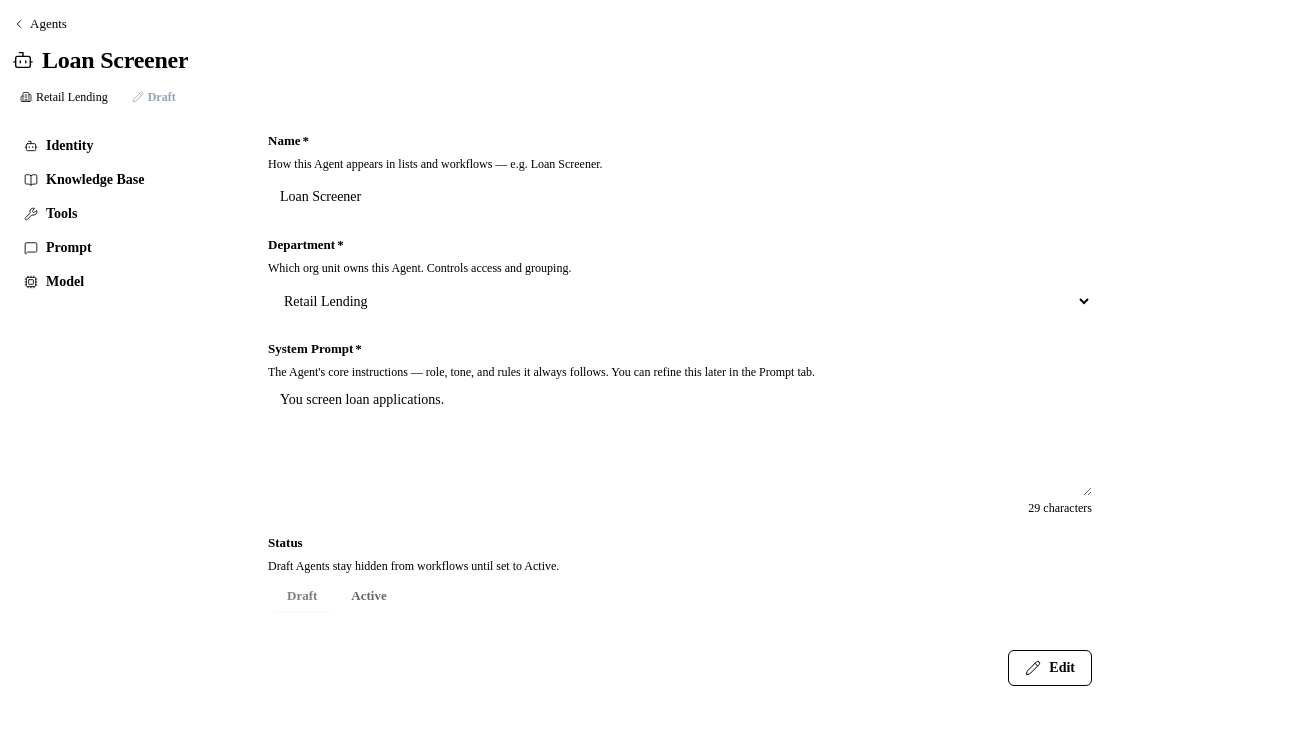
Scenario: AgentDetailShell — Story 2.8 integration › saves the dirty Identity tab per-tab and shows a success toast (AC #8)
Expected: the element with test id "vaic-identity-tab" is shown, [268,130,1092,686]
Click the button with test id "vaic-tab-edit".
click(1050, 668)  # box [1008,650,1092,686]
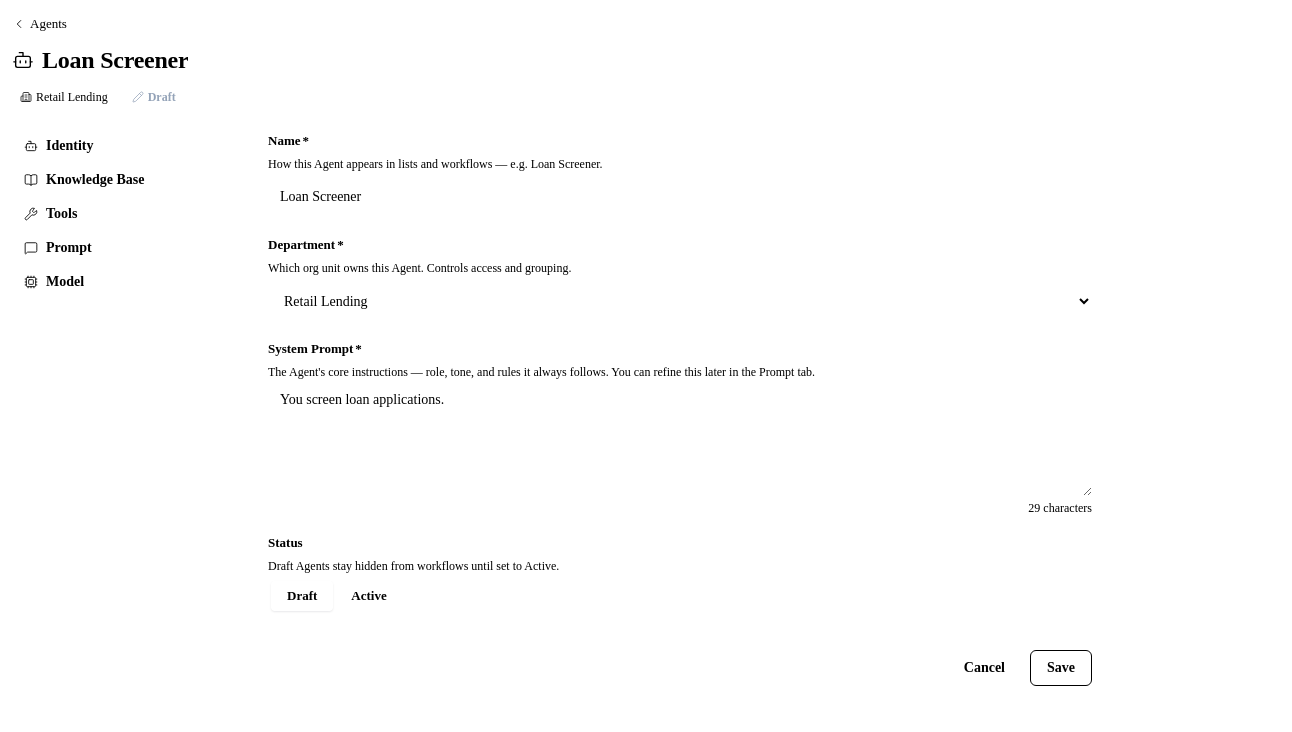
Replace the text in the field labelled "Name" with "Loan Screener v2" at (680, 197), box [268,176,1092,218]
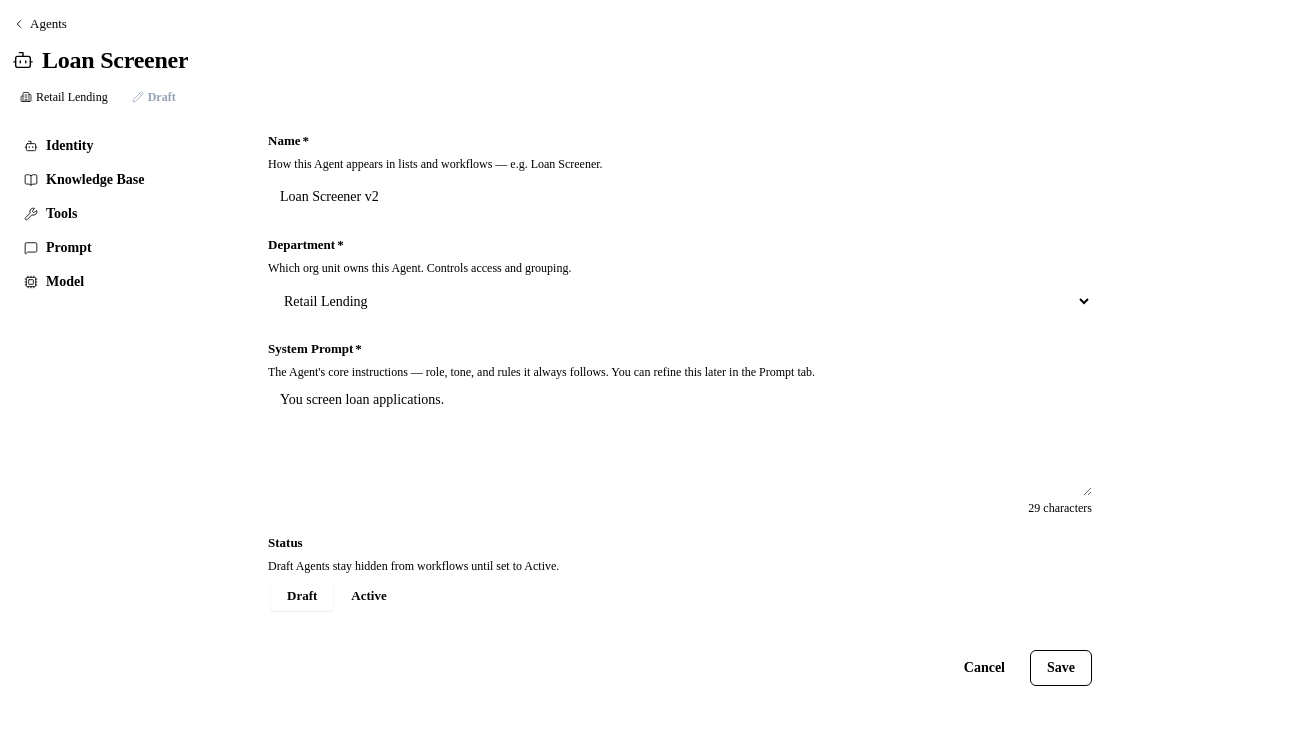
Click the button with test id "vaic-tab-save".
click(1061, 668)  # box [1030,650,1092,686]
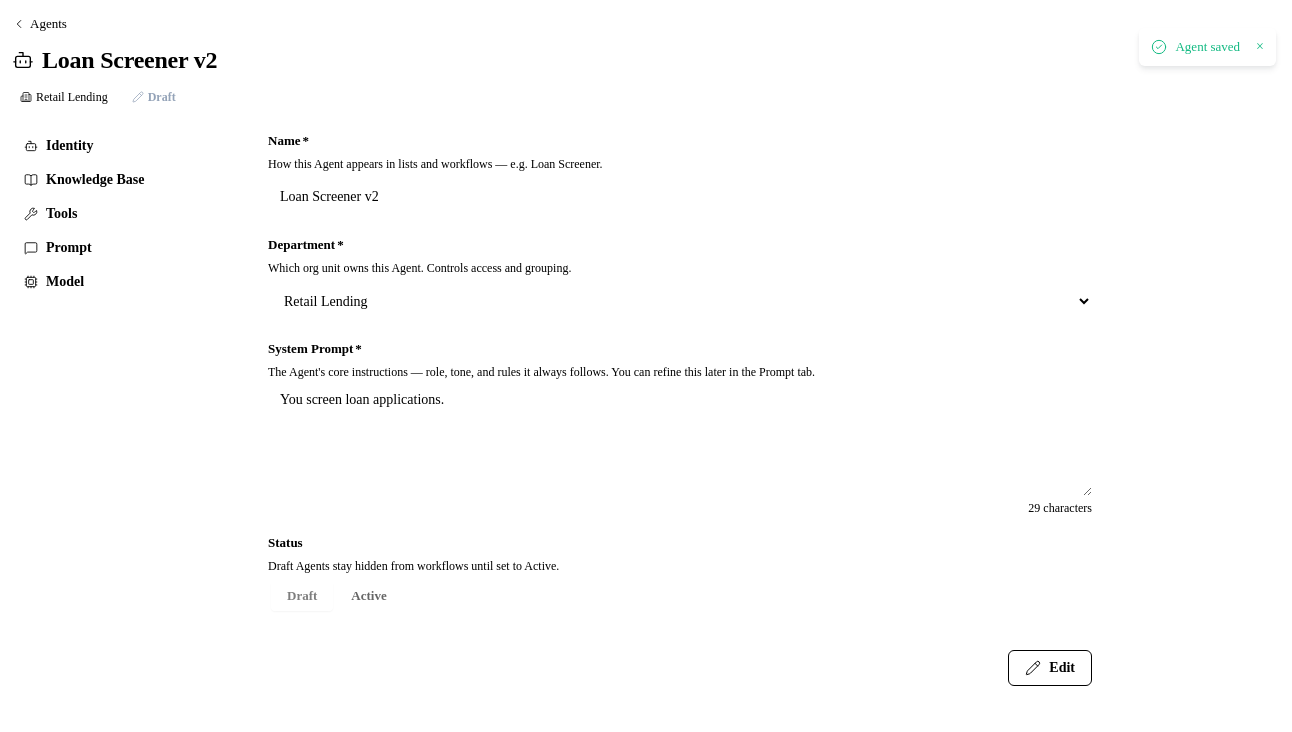
Expected: the text "Agent saved" is shown, [1176,36,1240,58]
